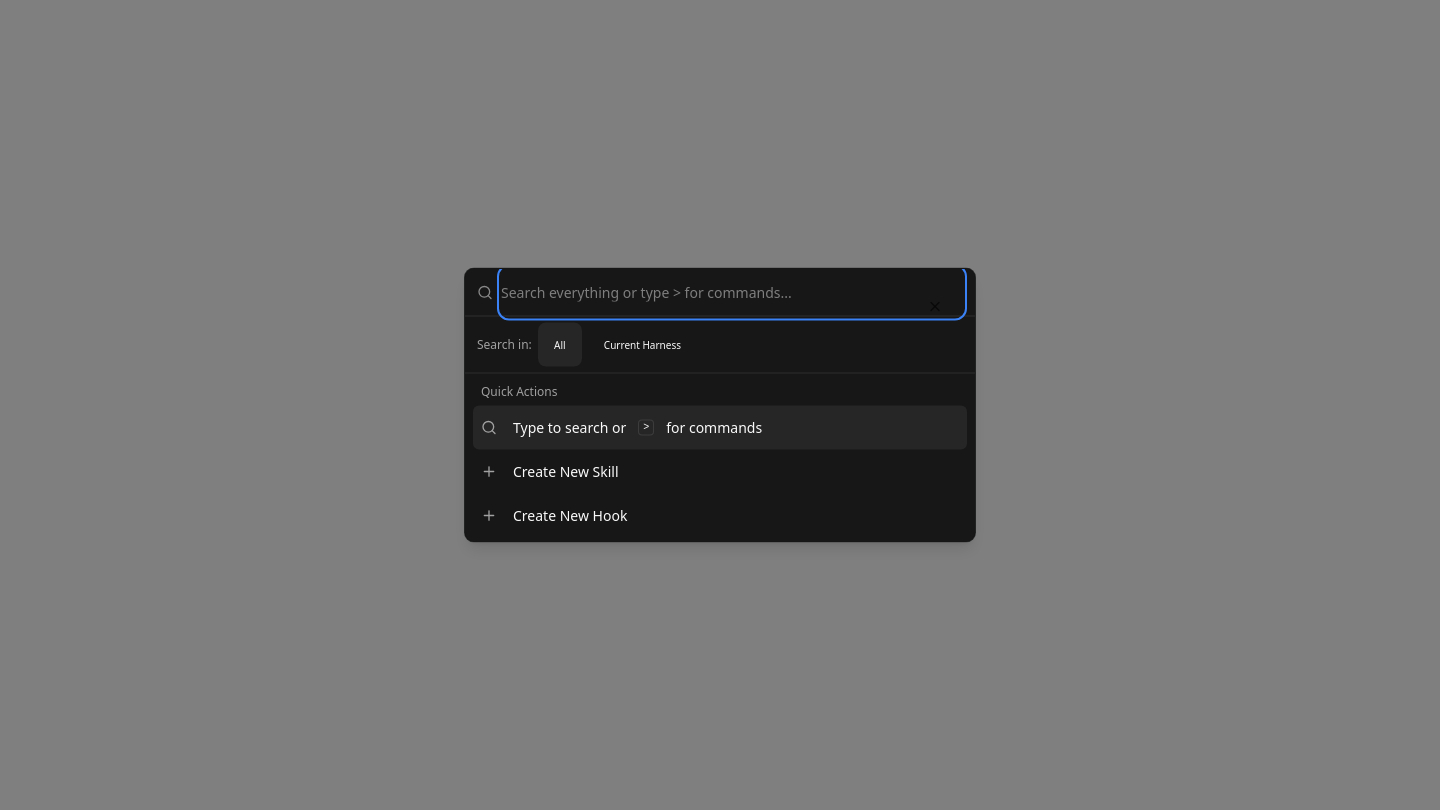
Test: CommandPalette › command mode › shows commands when > prefix is typed
The image size is (1440, 810).
Step 1. Type ">" into the dropdown with placeholder "Search everything or type > for commands..." → (732, 292), box [501,268,963,316]
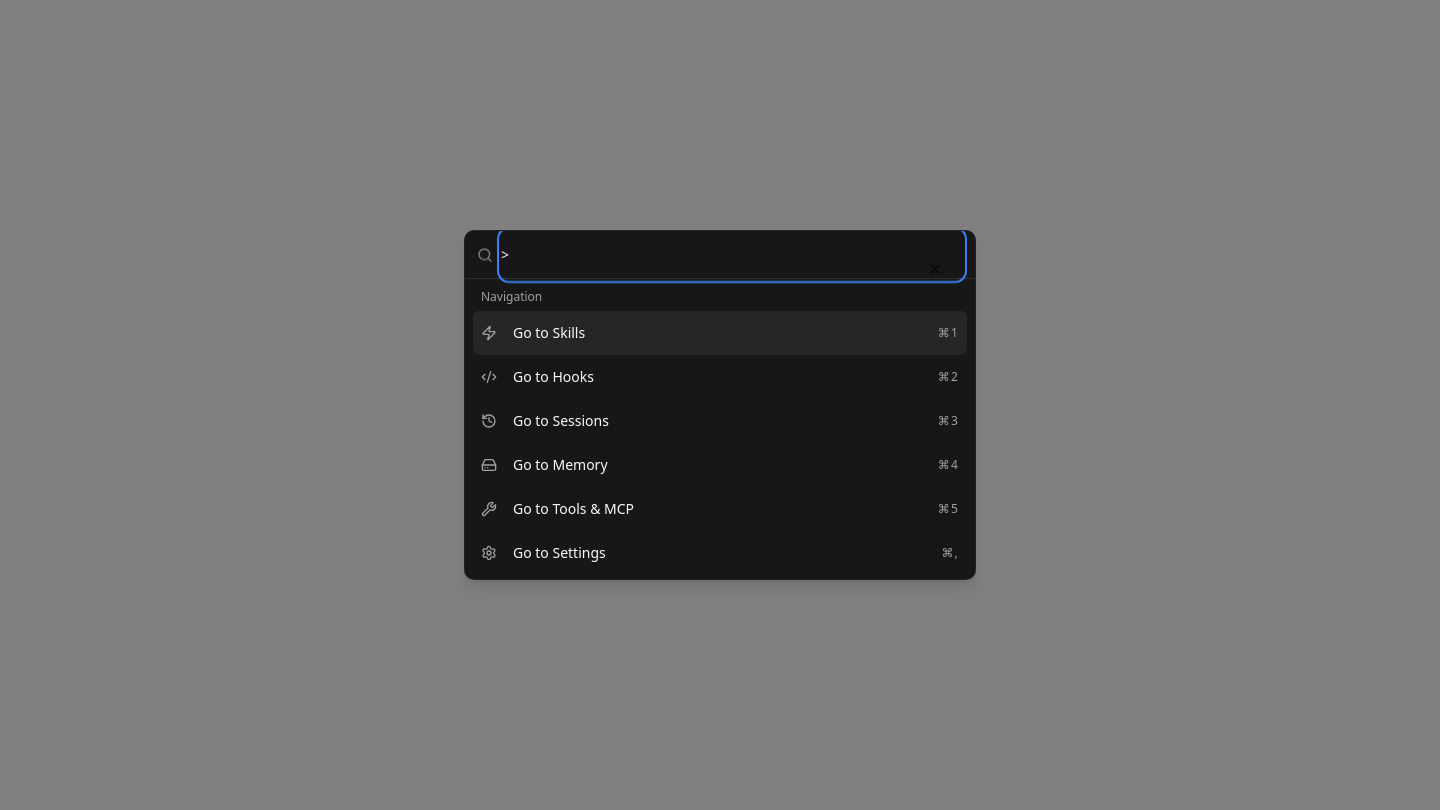
Now the text "Navigation" is shown, box [481,288,542,305]
